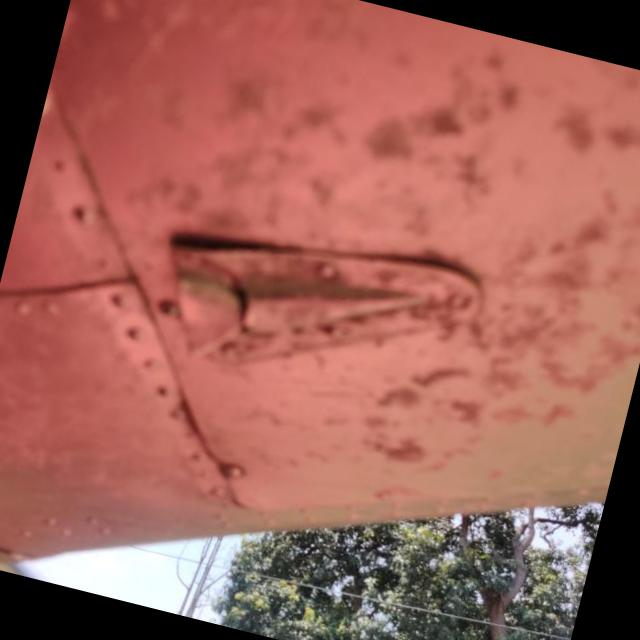Crack: (182, 275, 247, 347)
